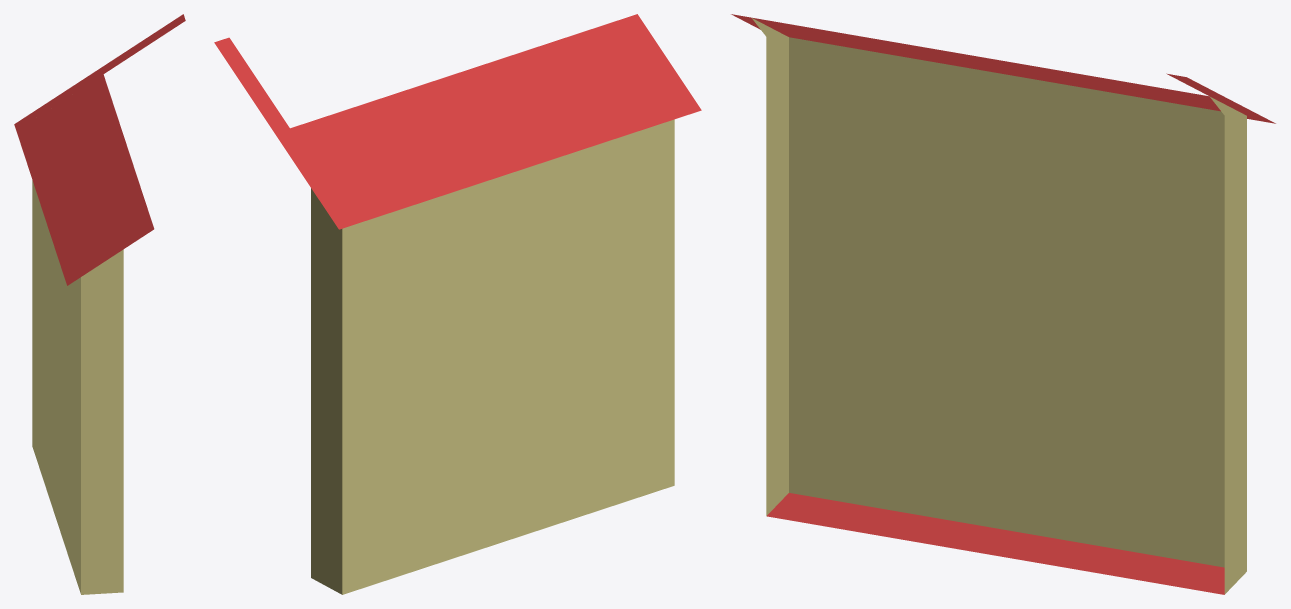
3 views of the same model, side by side, from view 1: azimuth 30°, elevation 25°; view 2: azimuth 150°, elevation 25°; view 3: azimuth 270°, elevation 25° (orthographic). The views are drawn at different scales.
Size of the model in its own units: 4.69 by 6.03 by 7.1.
